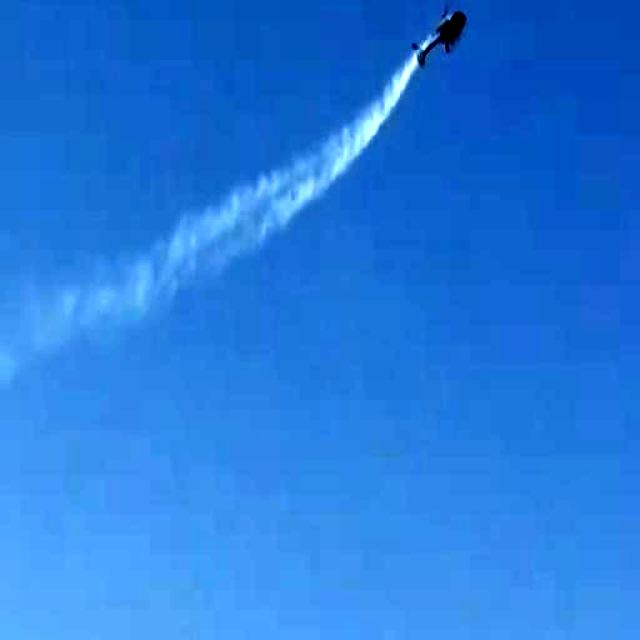drone: (410, 0, 481, 82)
